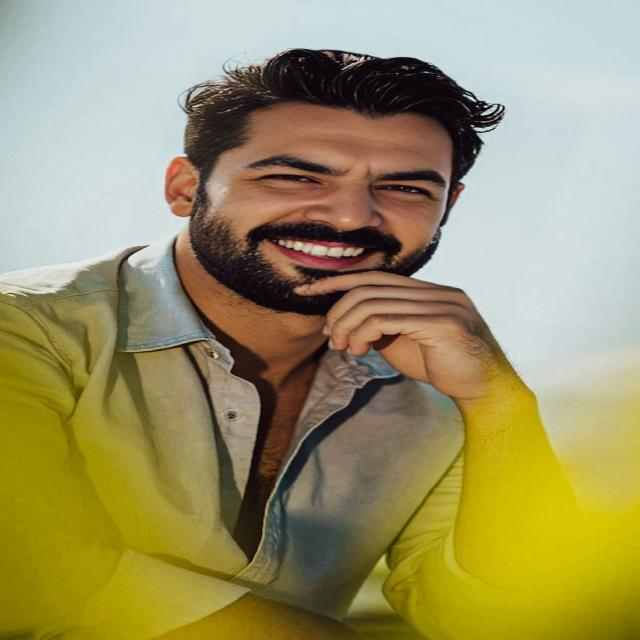sem_oculos: (193, 133, 475, 207)
